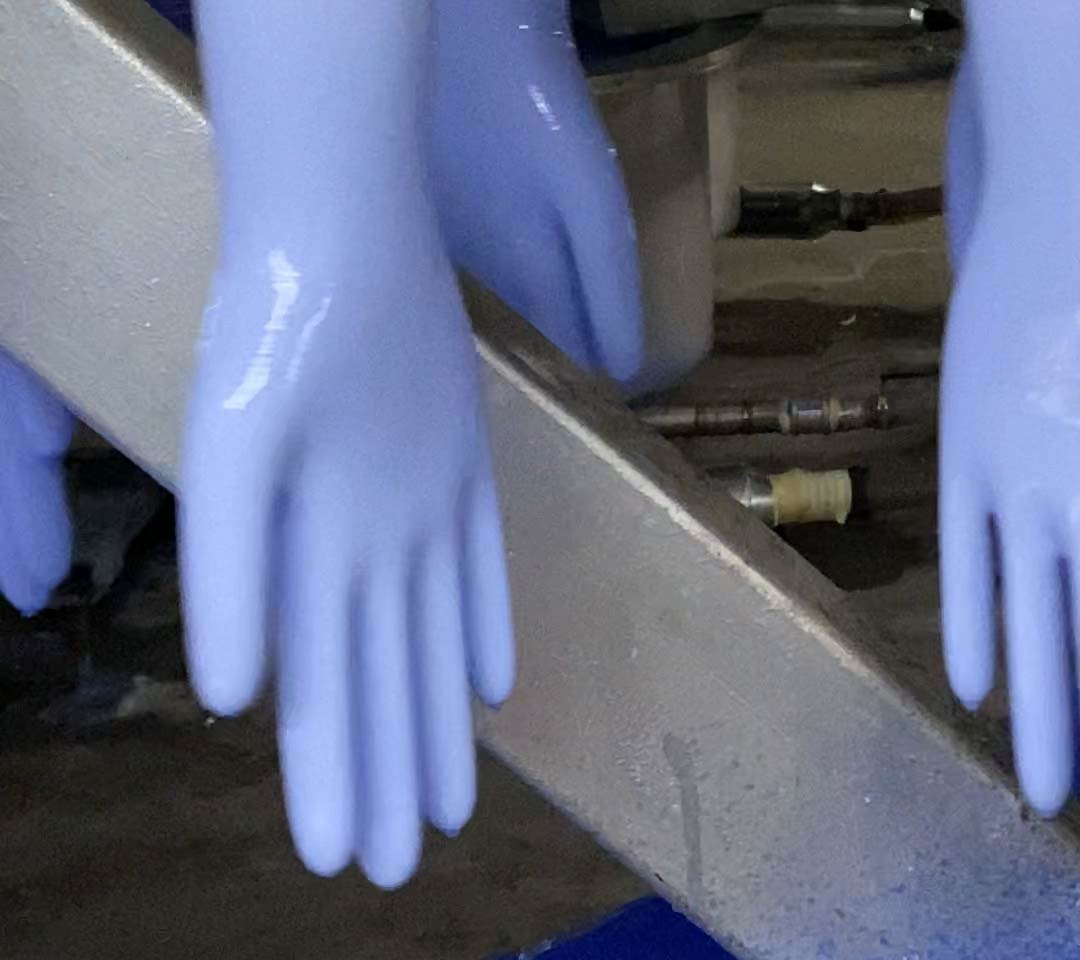glove: (172, 1, 518, 891), (938, 1, 1080, 802)
